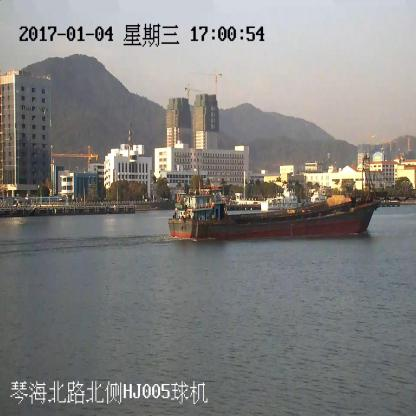Bulk Carrier: (169, 154, 377, 239)
